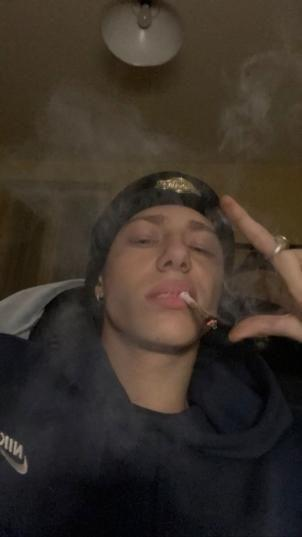cigarette: (177, 291, 218, 329)
